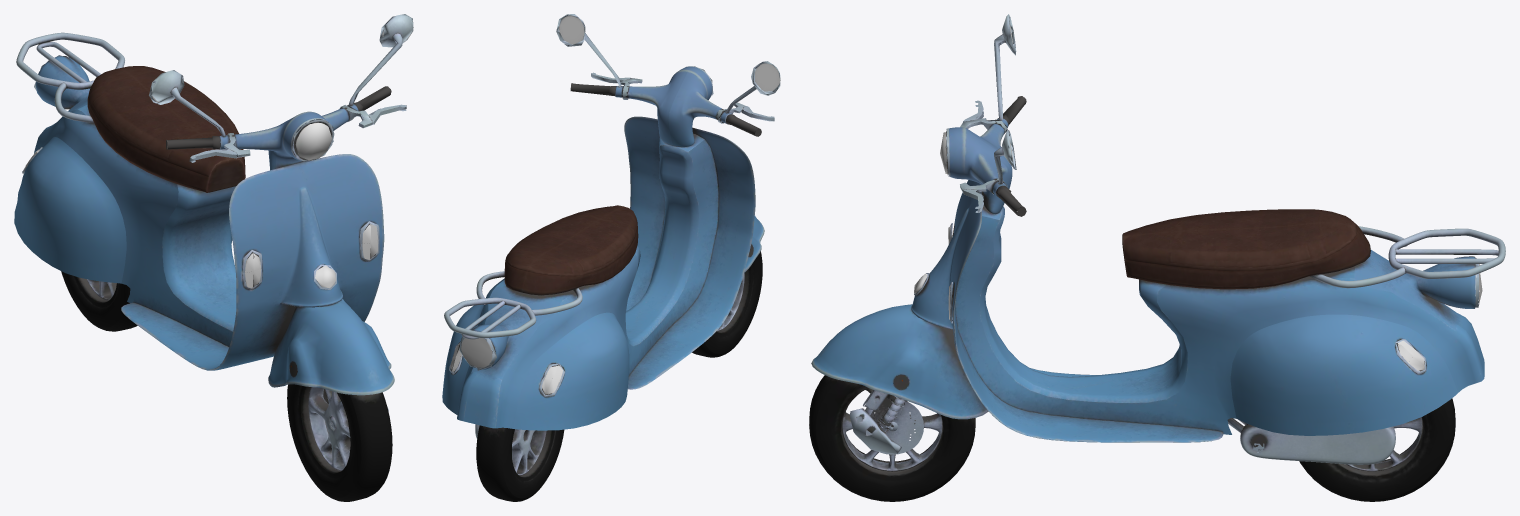
3 views of the same model, side by side, from view 1: azimuth 30°, elevation 25°; view 2: azimuth 150°, elevation 25°; view 3: azimuth 270°, elevation 25° (orthographic). The views are drawn at different scales.
Visible parts, largest first — view 1: body, wheel_f, wheel_r; view 2: body, wheel_r, wheel_f; view 3: body, wheel_f, wheel_r.
Part boxes in pixels (left/top/right/bottom): body: left=14, top=14, right=413, bottom=411; wheel_f: left=287, top=384, right=392, bottom=501; wheel_r: left=61, top=271, right=137, bottom=331; body: left=442, top=14, right=780, bottom=438; wheel_r: left=476, top=425, right=564, bottom=501; wheel_f: left=692, top=251, right=762, bottom=357; body: left=811, top=14, right=1505, bottom=464; wheel_f: left=809, top=375, right=975, bottom=501; wheel_r: left=1299, top=398, right=1455, bottom=501.
Bounding box in the file's own units: 0.8135 × 1.21 × 1.8.
7 materials, 6 textured.
